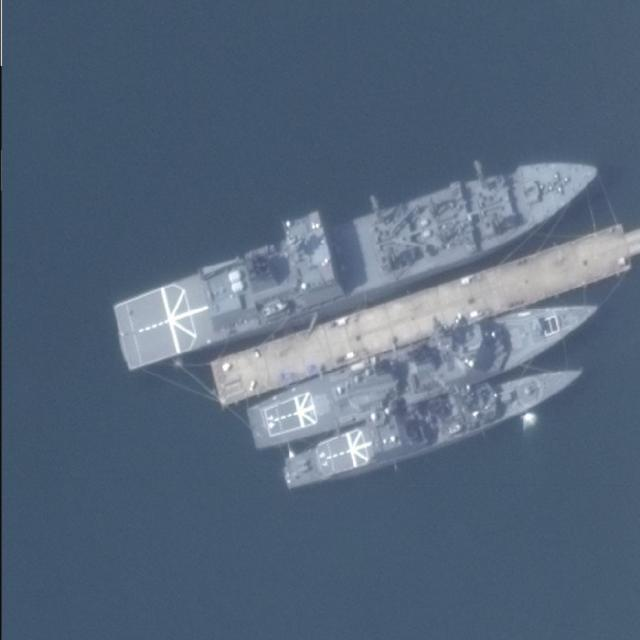Auxiliary Ships: (107, 143, 610, 369)
Destroyer: (239, 292, 610, 454), (275, 360, 590, 489)
Dock: (206, 228, 635, 407)
